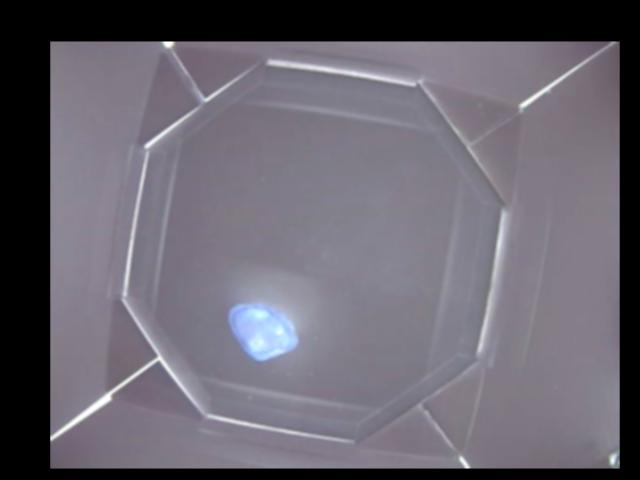Pebble: (229, 302, 297, 362)
